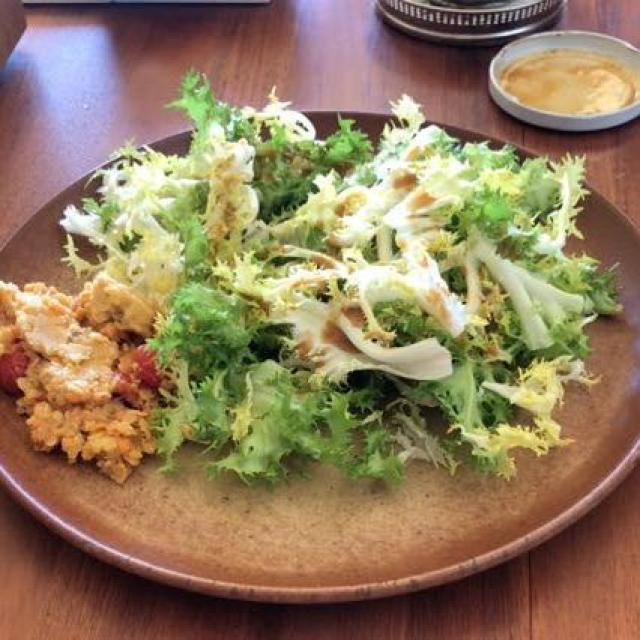Green Salad: (145, 127, 591, 472)
